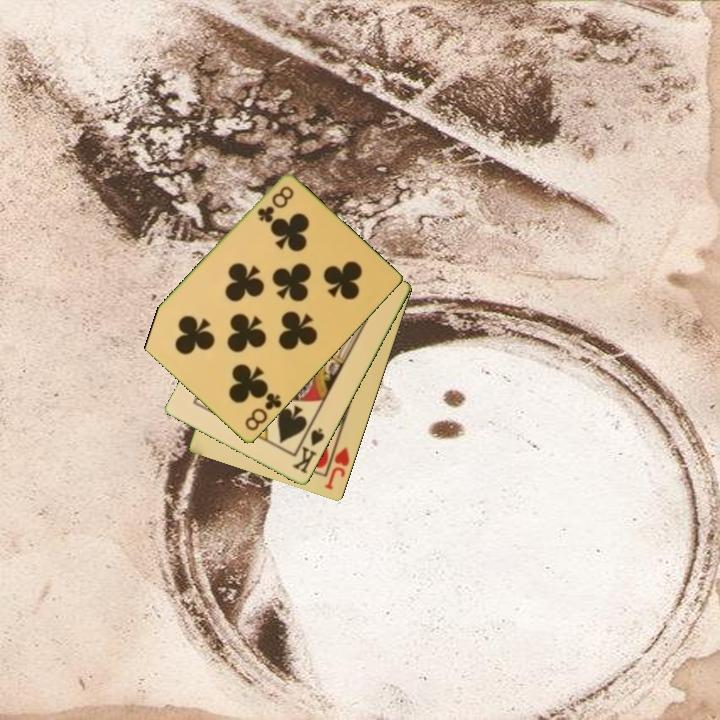8c: (241, 389, 285, 434), (253, 183, 297, 226)
Jh: (321, 436, 353, 493)
Ks: (289, 421, 328, 477)
